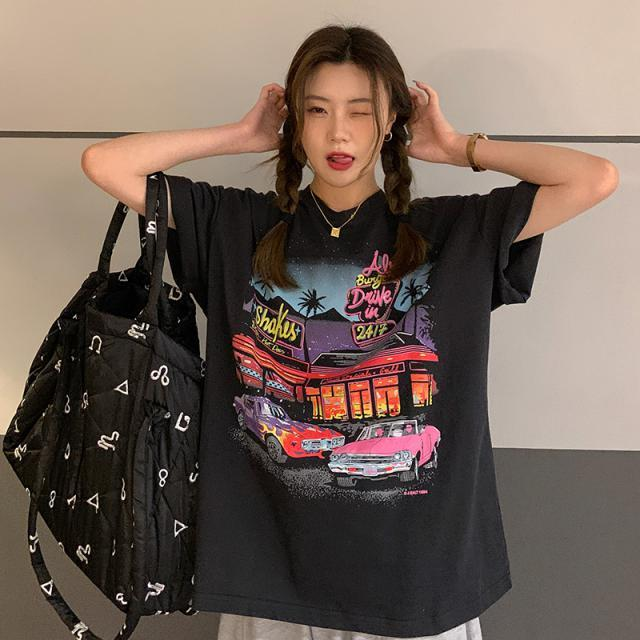Shirt: (145, 166, 553, 640)
